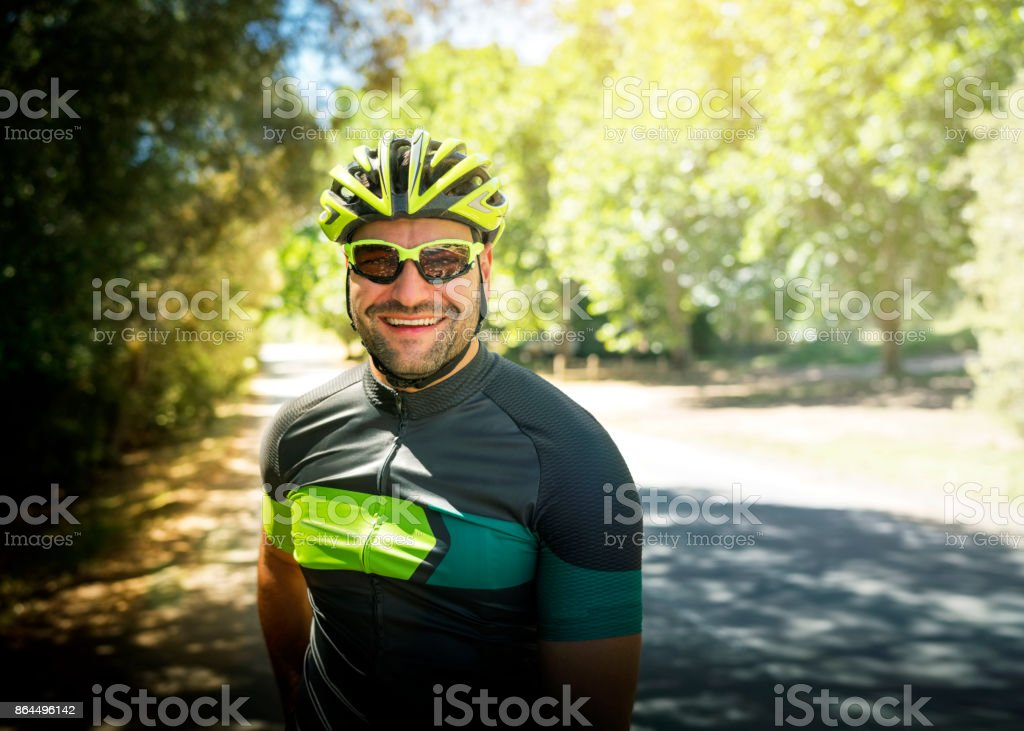helmet: (320, 131, 509, 383)
